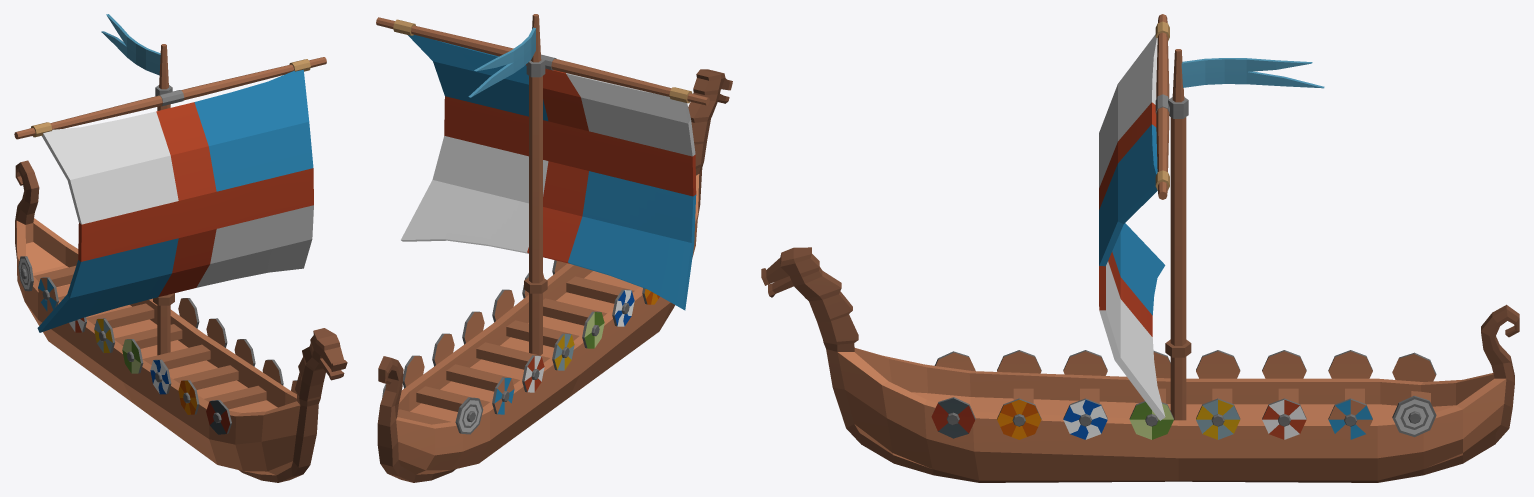
Rendered from viking-ship-4.glb.
3 renders of one model, left to right at view 1: azimuth 30°, elevation 25°; view 2: azimuth 150°, elevation 25°; view 3: azimuth 270°, elevation 25°, orthographic. The views are drawn at different scales.
Visible parts, largest first — view 1: viking ship 4; view 2: viking ship 4; view 3: viking ship 4.
Part boxes in pixels (box(x1,y1,x2,y2)): viking ship 4: box(14, 14, 347, 482); viking ship 4: box(376, 14, 732, 482); viking ship 4: box(761, 14, 1519, 482).
Size of the model in its own units: 10.37 by 11.71 by 18.72.
Materials: 1 (1 with a texture image).
